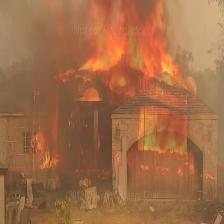fire: (5, 0, 220, 208)
